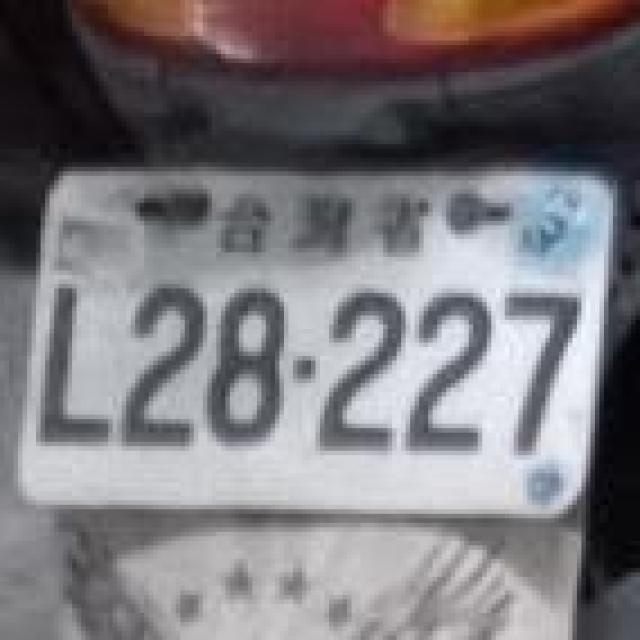W: (7, 163, 616, 522)
